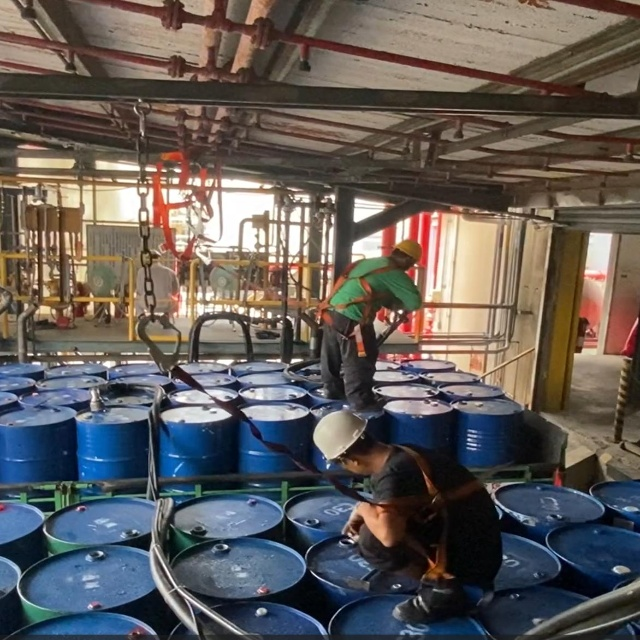Arnes_seguridad: (354, 442, 506, 589), (314, 255, 405, 357)
